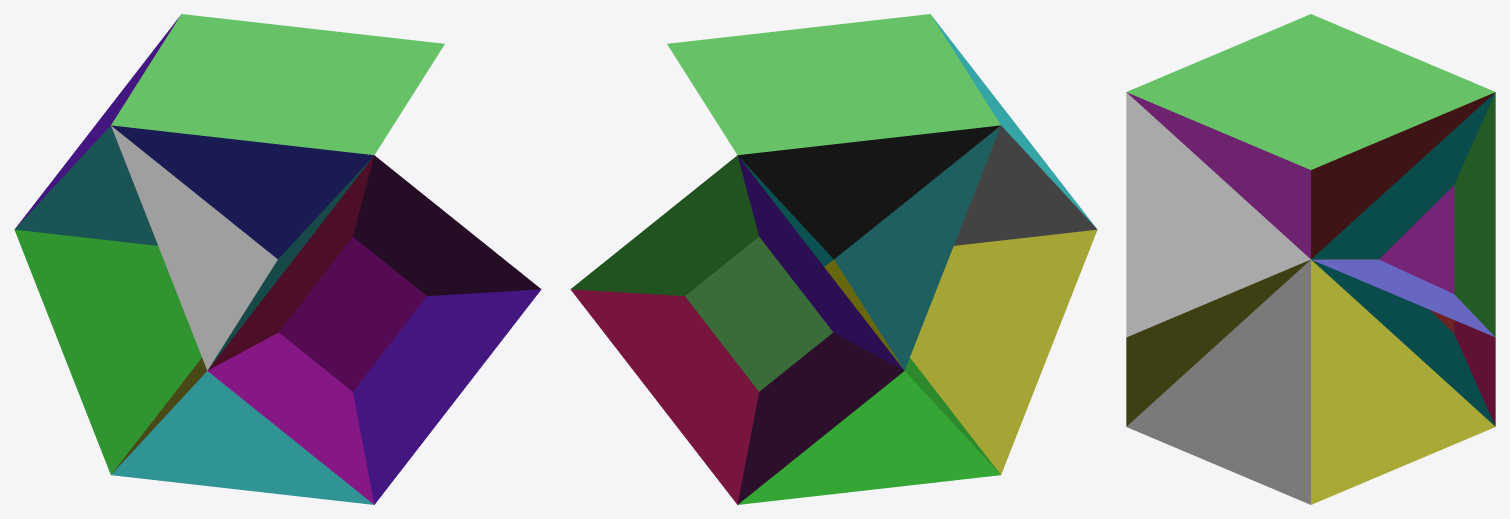
The model's file is zeometry-sculptural-folded-cube_v1.glb.
3 views of the same model, side by side, from view 1: azimuth 30°, elevation 25°; view 2: azimuth 150°, elevation 25°; view 3: azimuth 270°, elevation 25° (orthographic). The views are drawn at different scales.
Parts seen in each view (by area): view 1: Folded Cube; view 2: Folded Cube; view 3: Folded Cube.
Part boxes in pixels (<box>): Folded Cube: <box>14,14,541,504</box>; Folded Cube: <box>570,14,1097,504</box>; Folded Cube: <box>1126,14,1495,504</box>.
Bounding box in the file's own units: 0.5 × 0.5 × 0.5.
